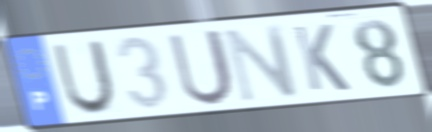3: (115, 33, 174, 113)
8: (350, 14, 407, 92)
K: (290, 21, 353, 93)
N: (221, 22, 301, 105)
U: (165, 26, 237, 108), (50, 38, 118, 117)
